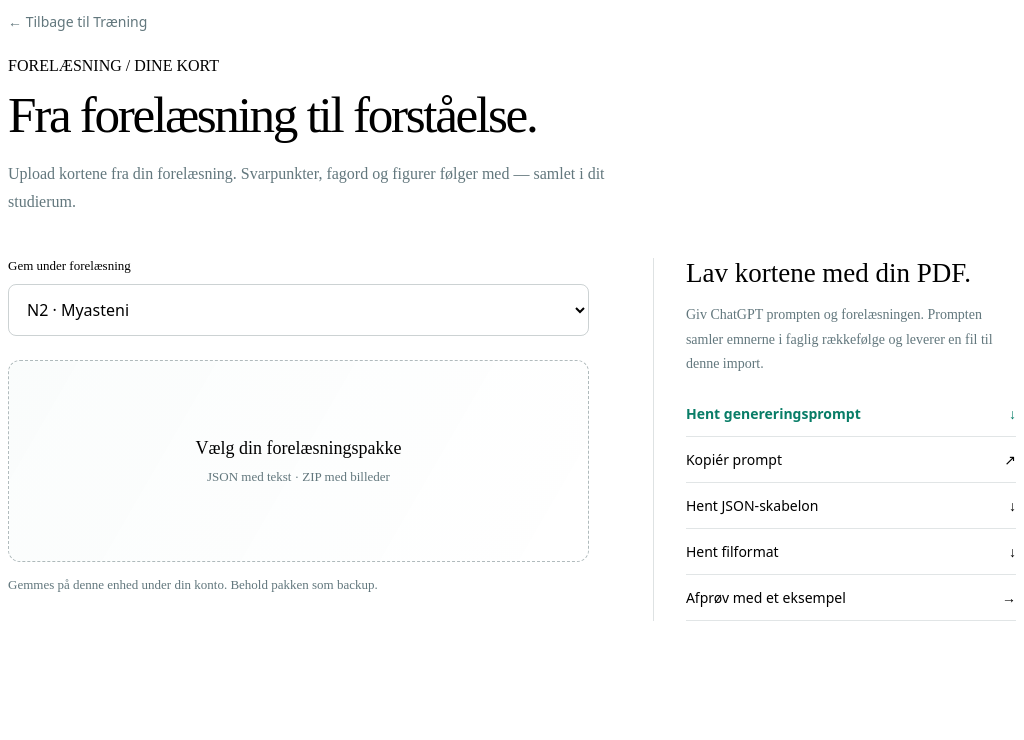
an unchanged deleted package can be reimported with explicit restoration, without duplicates or lost review data
Click the button "Afprøv med et eksempel →". click: (766, 597)
box: x1=686 y1=574 x2=1016 y2=620
(page scrolled)
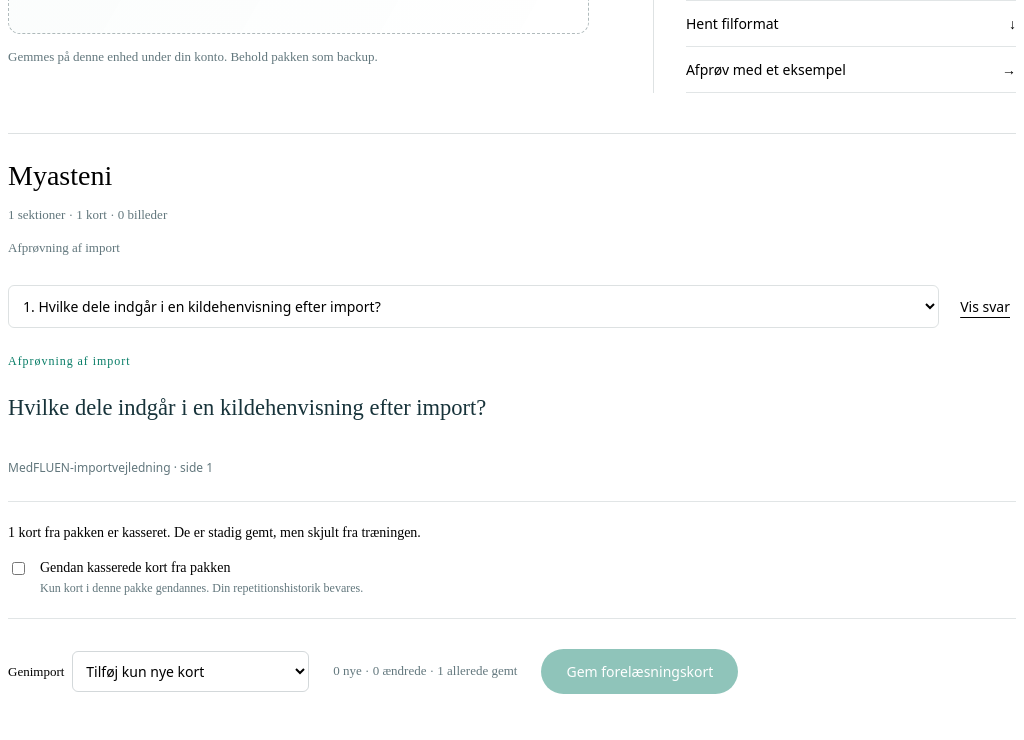
Check: the button "Gem forelæsningskort" is disabled, box x1=542 y1=649 x2=738 y2=694
Check: the checkbox named "Gendan kasserede kort fra pakken" is shown
Check: the checkbox named "Gendan kasserede kort fra pakken" is not checked
Click the checkbox named "Gendan kasserede kort fra pakken". click: (18, 568)
box: x1=12 y1=562 x2=25 y2=575
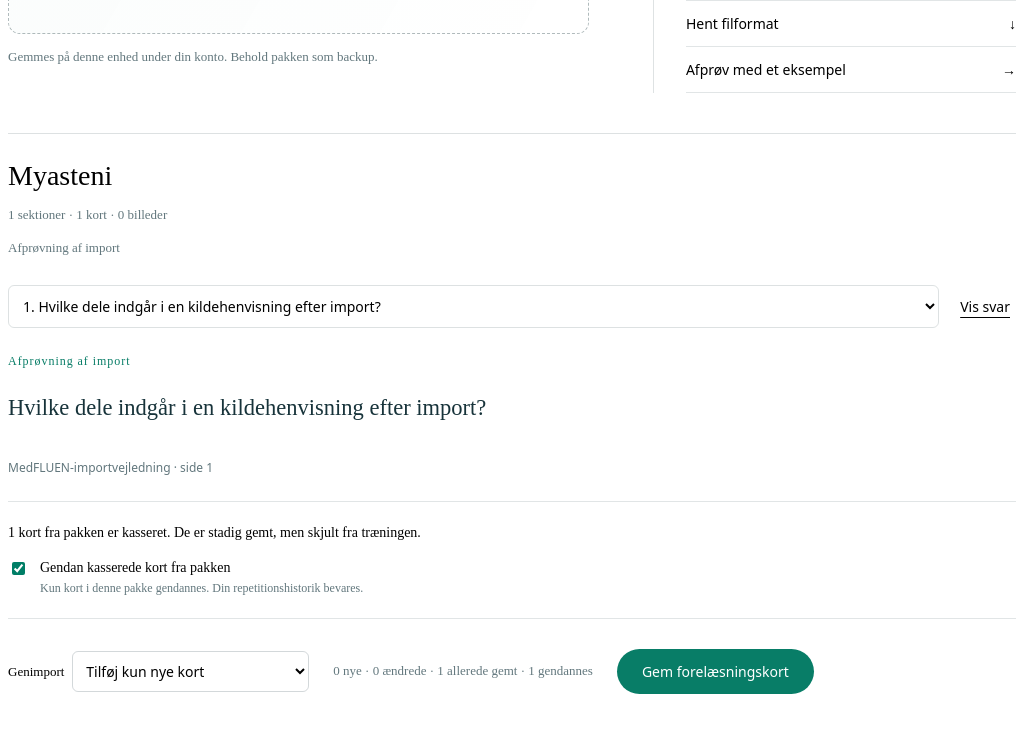
Check: the button "Gem forelæsningskort" is enabled
Click the button "Gem forelæsningskort". click: (715, 672)
box: x1=617 y1=649 x2=814 y2=694
(page scrolled)
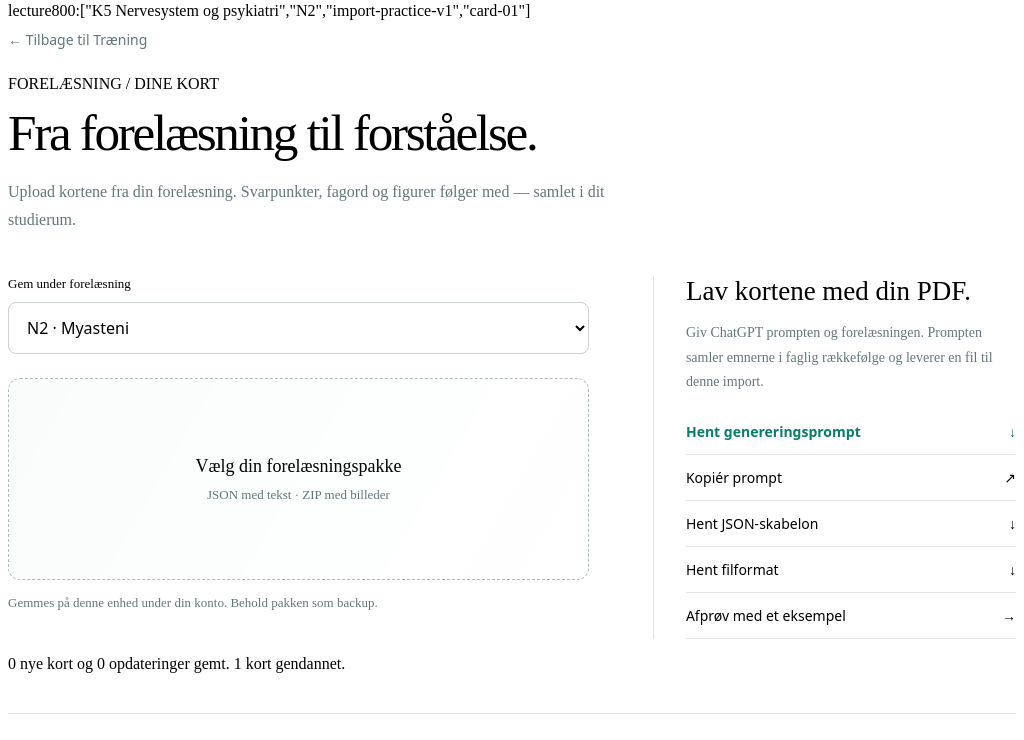
Check: the text "1 kort gendannet" is shown, box x1=8 y1=654 x2=345 y2=672
